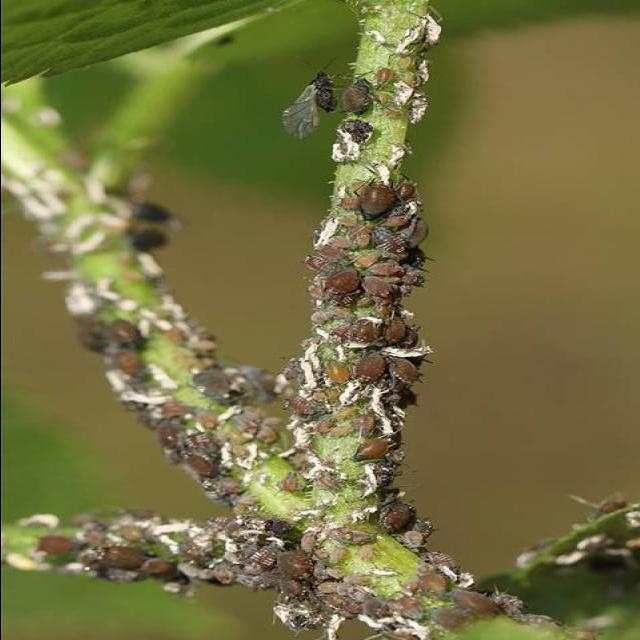aphid: (296, 261, 373, 303), (358, 498, 433, 538), (346, 173, 400, 220)
